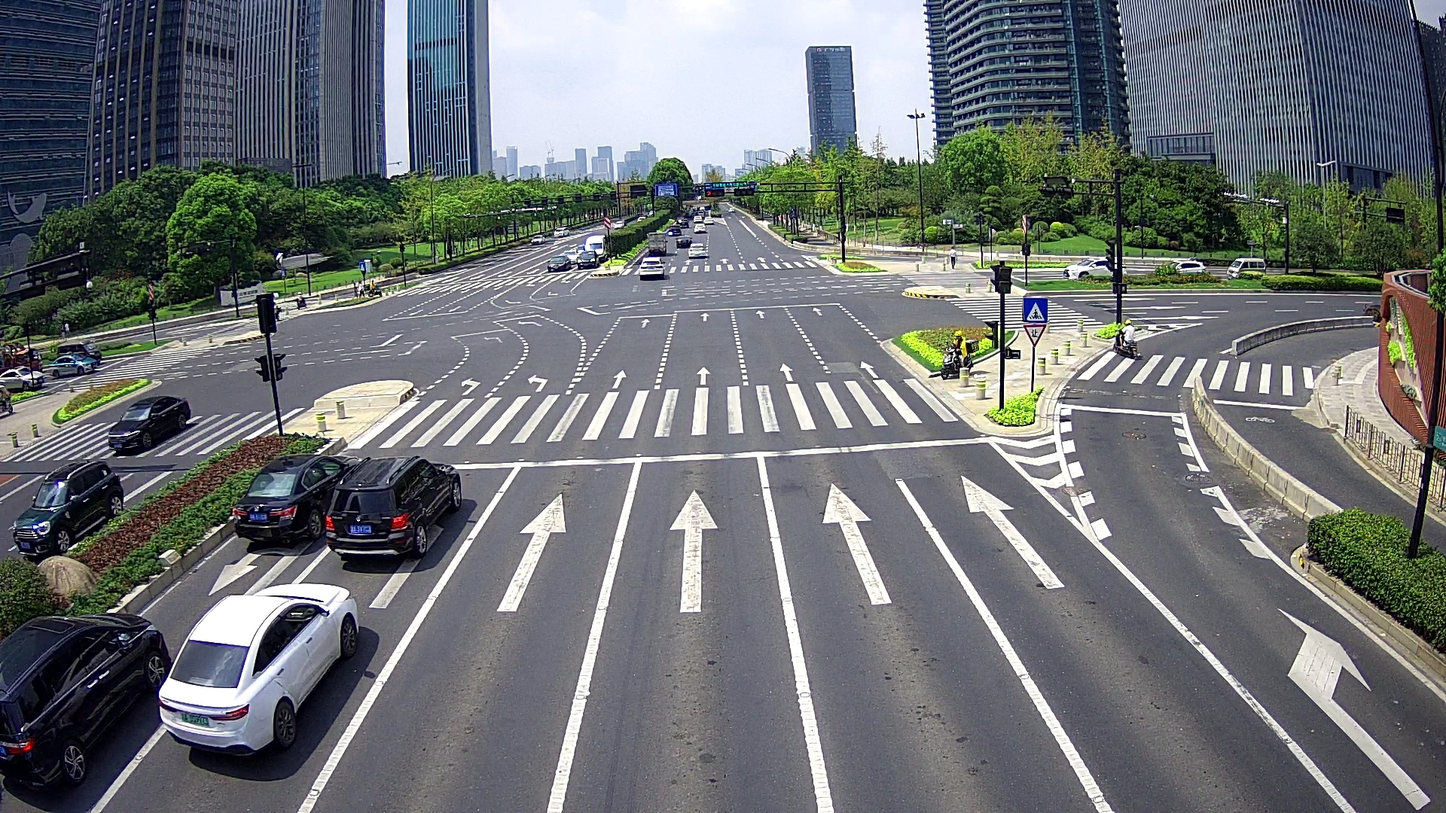person: (950, 327, 972, 370), (1120, 318, 1138, 354)
vehicle: (151, 577, 361, 761), (2, 608, 171, 789), (322, 452, 462, 565), (227, 449, 363, 546), (9, 458, 125, 561), (101, 391, 194, 454), (938, 337, 981, 381), (1109, 328, 1149, 356)
